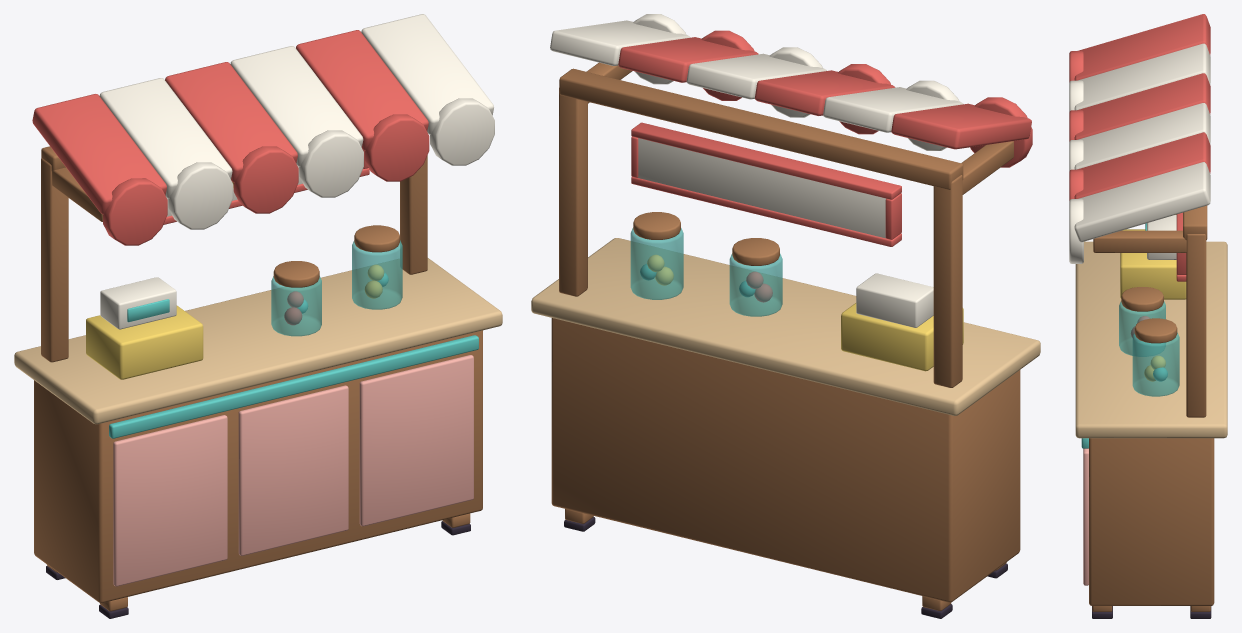
Rendered from shop-kiosk.glb.
The picture shows the model from 3 angles, left to right: view 1: azimuth 30°, elevation 25°; view 2: azimuth 150°, elevation 25°; view 3: azimuth 270°, elevation 25°; orthographic projection. The views are drawn at different scales.
Parts seen in each view (by area): view 1: IntShopKiosk_PeachPanels, IntShopKiosk_WoodFrame, IntShopKiosk_CreamAwningSign, IntShopKiosk_CoralAwning, IntShopKiosk_CounterTop, IntShopKiosk_TurquoiseTrim, IntShopKiosk_ButterRegister, IntShopKiosk_GlassJars; view 2: IntShopKiosk_WoodFrame, IntShopKiosk_CounterTop, IntShopKiosk_CreamAwningSign, IntShopKiosk_CoralAwning, IntShopKiosk_GlassJars, IntShopKiosk_ButterRegister; view 3: IntShopKiosk_WoodFrame, IntShopKiosk_CounterTop, IntShopKiosk_CreamAwningSign, IntShopKiosk_CoralAwning, IntShopKiosk_GlassJars, IntShopKiosk_ButterRegister, IntShopKiosk_PeachPanels, IntShopKiosk_Glides, IntShopKiosk_TurquoiseTrim.
Part boxes in pixels (box(x1,y1,x2,y2)): IntShopKiosk_PeachPanels: box(113, 355, 473, 586); IntShopKiosk_WoodFrame: box(34, 146, 482, 611); IntShopKiosk_CreamAwningSign: box(99, 14, 494, 329); IntShopKiosk_CoralAwning: box(32, 30, 429, 325); IntShopKiosk_CounterTop: box(14, 258, 502, 424); IntShopKiosk_TurquoiseTrim: box(109, 272, 478, 438); IntShopKiosk_ButterRegister: box(86, 182, 384, 379); IntShopKiosk_GlassJars: box(271, 240, 402, 336); IntShopKiosk_WoodFrame: box(551, 62, 1020, 610); IntShopKiosk_CounterTop: box(531, 238, 1040, 415); IntShopKiosk_CreamAwningSign: box(550, 14, 963, 327); IntShopKiosk_CoralAwning: box(618, 30, 1032, 302); IntShopKiosk_GlassJars: box(630, 227, 782, 316); IntShopKiosk_ButterRegister: box(647, 254, 963, 371); IntShopKiosk_WoodFrame: box(1089, 205, 1214, 611); IntShopKiosk_CounterTop: box(1075, 241, 1227, 438); IntShopKiosk_CreamAwningSign: box(1069, 43, 1210, 263); IntShopKiosk_CoralAwning: box(1069, 14, 1210, 337); IntShopKiosk_GlassJars: box(1119, 301, 1179, 396); IntShopKiosk_ButterRegister: box(1120, 214, 1186, 381); IntShopKiosk_PeachPanels: box(1083, 448, 1088, 585); IntShopKiosk_Glides: box(1092, 606, 1211, 618); IntShopKiosk_TurquoiseTrim: box(1081, 223, 1167, 448).
Size of the model in its own units: 1.96 by 2.15 by 0.7075.
